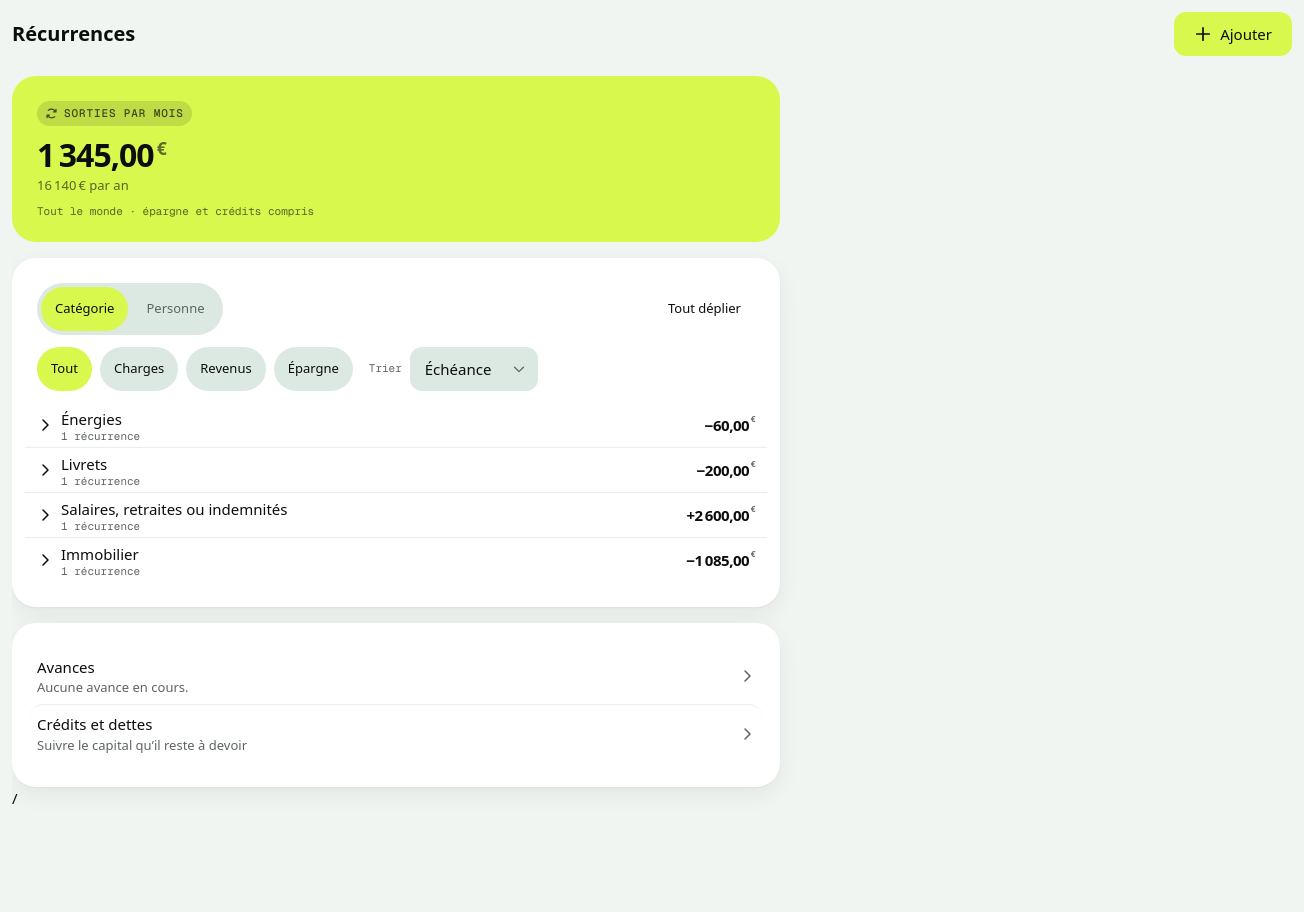
Test: RecurrencesPage › le total en tête › suit la pilule active — étiquette, périmètre et chiffre
This screenshot has width=1304, height=912.
Click the button "Revenus".
click(226, 369)  # box [186,347,266,391]
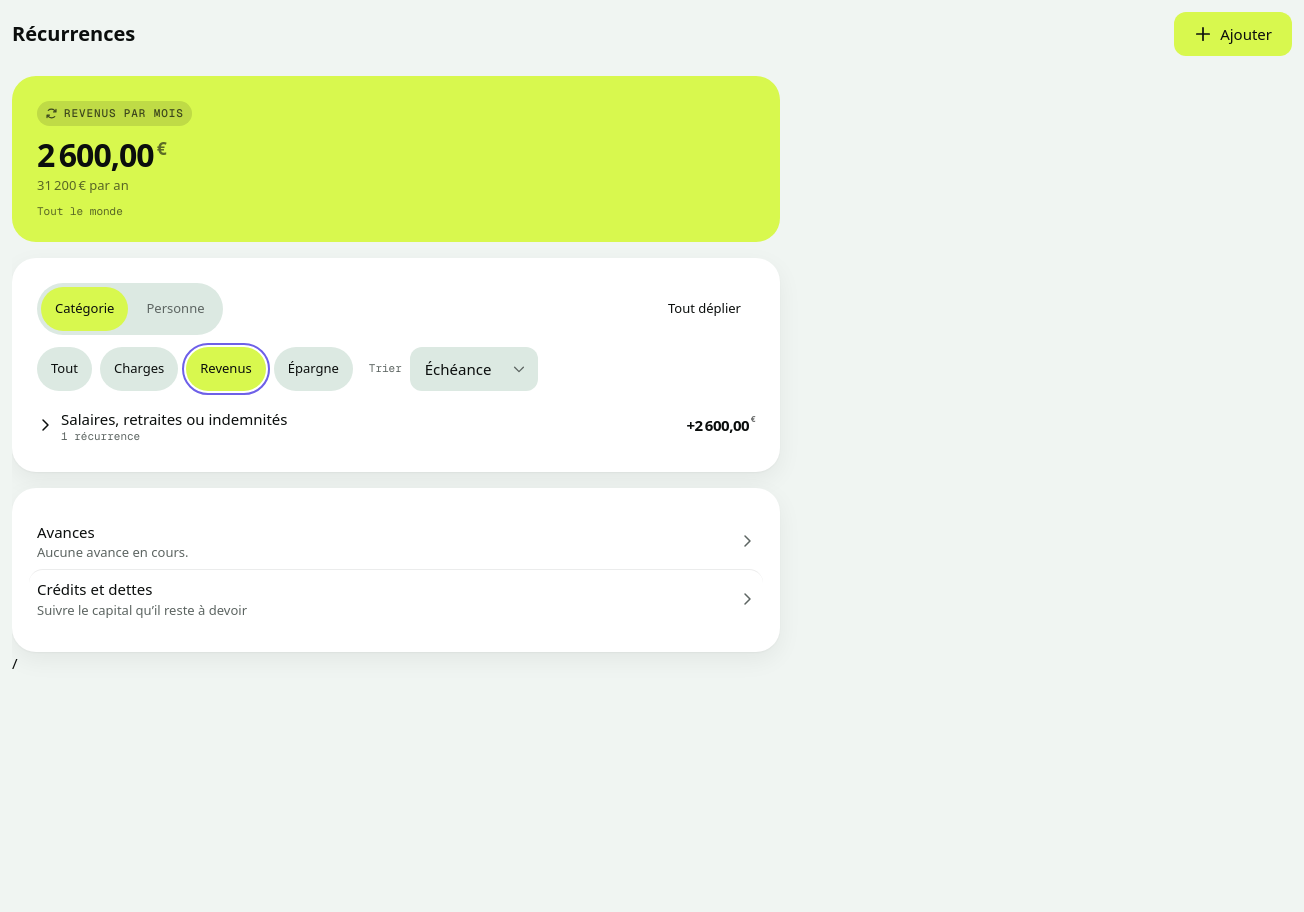
Check: the text "Tout le monde" is shown, box [37,204,123,218]
Check: the text "Sorties par mois" is gone
Check: the text "Revenus par mois" is shown, box [64,106,184,120]
